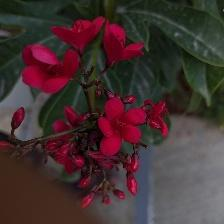jatropha: (20, 41, 81, 95), (97, 96, 149, 155), (105, 22, 146, 73), (51, 20, 108, 52)
